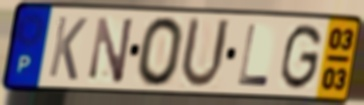G: (278, 22, 325, 92)
K: (46, 14, 90, 84)
L: (236, 22, 272, 88)
N: (87, 15, 137, 86)
O: (135, 14, 186, 89)
U: (177, 15, 233, 92)
